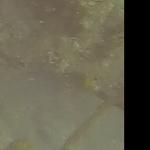dead: (1, 3, 121, 148)
